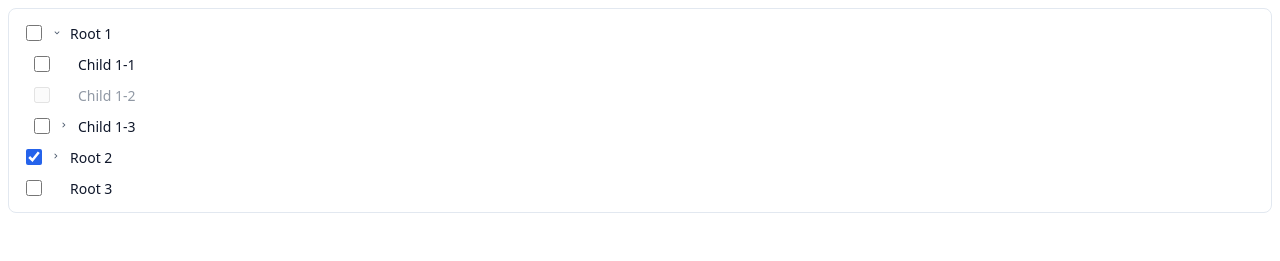
Test: Tree › respects controlled checkedKeys
expect the checkbox named "Select Root 2" is checked: met, box x1=26 y1=149 x2=42 y2=165
What coordinates should you click on to do the following:
click the button named "Expand Root 2"
I would click on:
 (56, 157)
Its box is x1=46 y1=147 x2=66 y2=167.
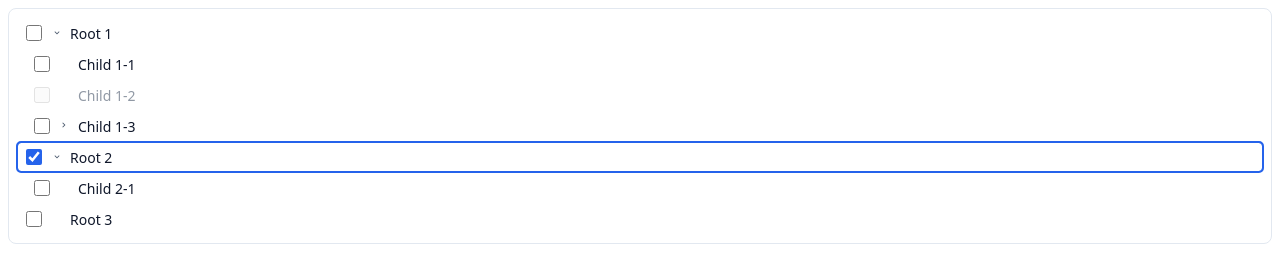
expect the checkbox named "Select Child 2-1" is not checked: met, box x1=34 y1=180 x2=50 y2=196
